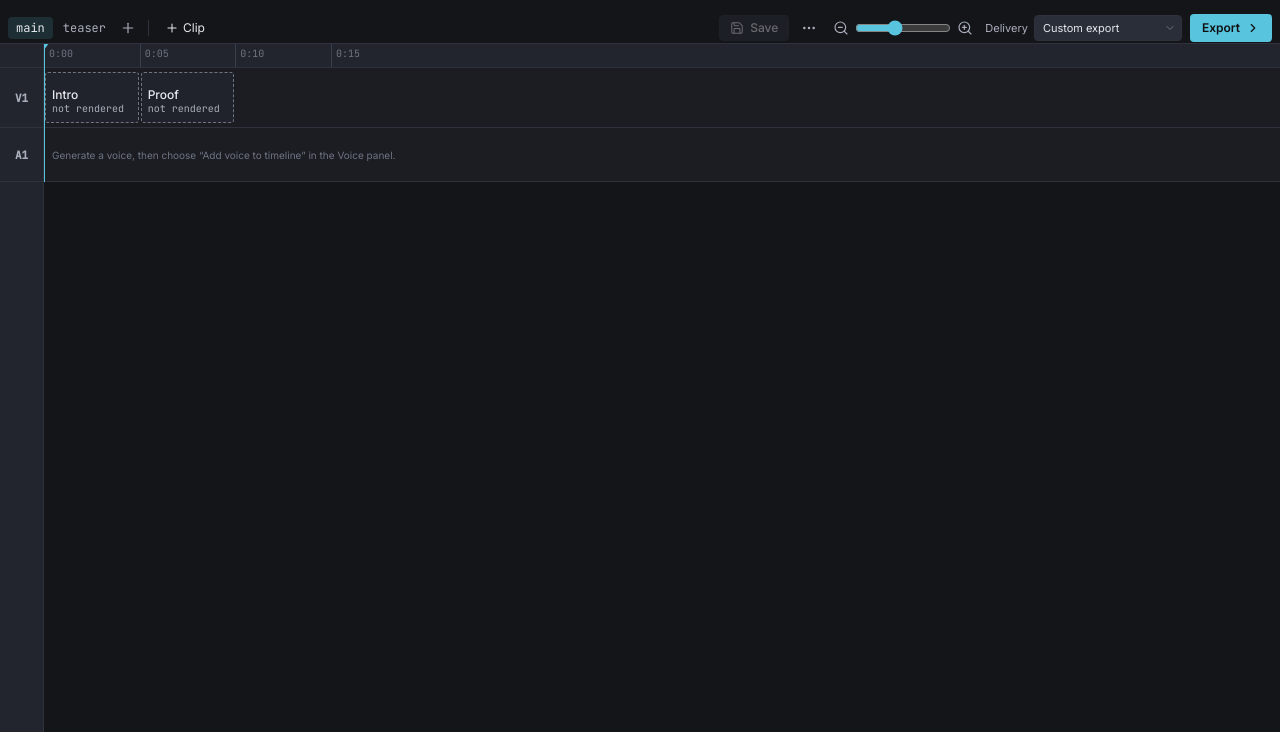
Test: TimelinePanel › adds and removes clips, then saves them in order with the etag
Click the button with aria-label "Clip 1: Intro". click: x=92, y=98
box: x1=45 y1=72 x2=139 y2=123
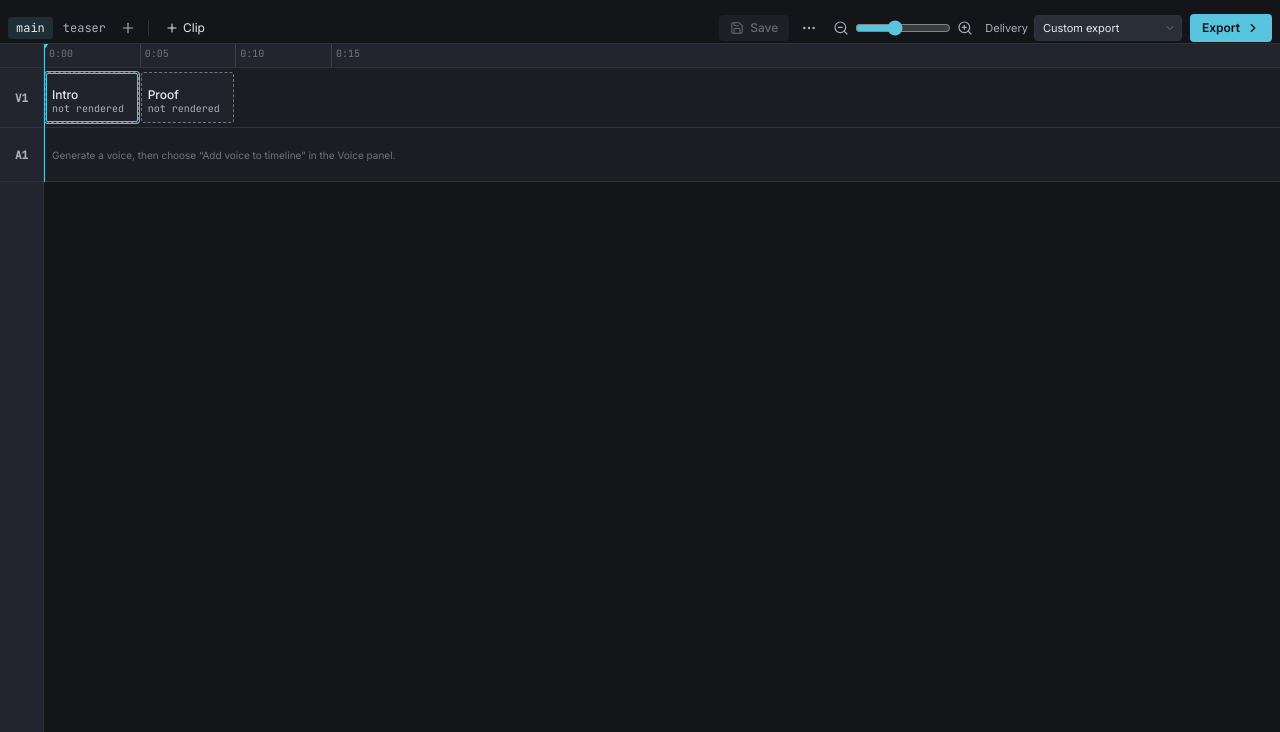
Press Delete in the button with aria-label "Clip 1: Intro", box x1=45 y1=72 x2=139 y2=123
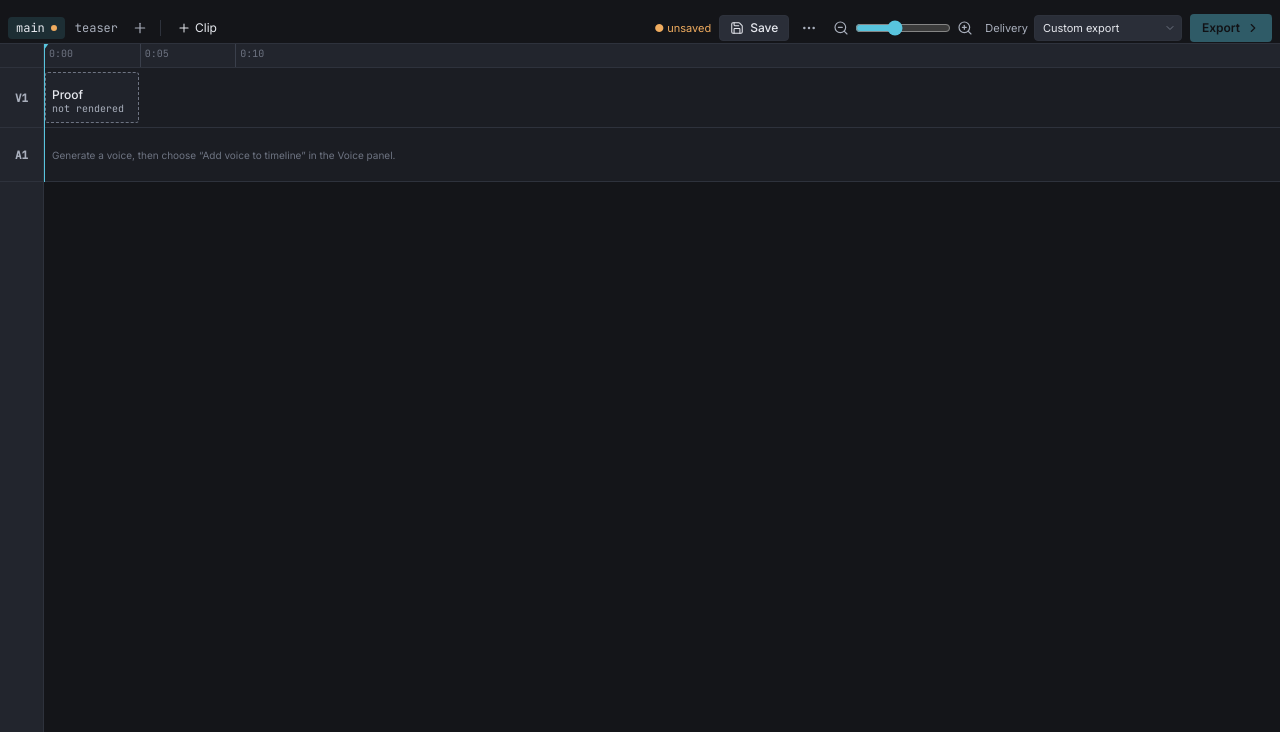
Click the button with aria-label "Add clip". click: x=197, y=28
box: x1=169 y1=14 x2=225 y2=40
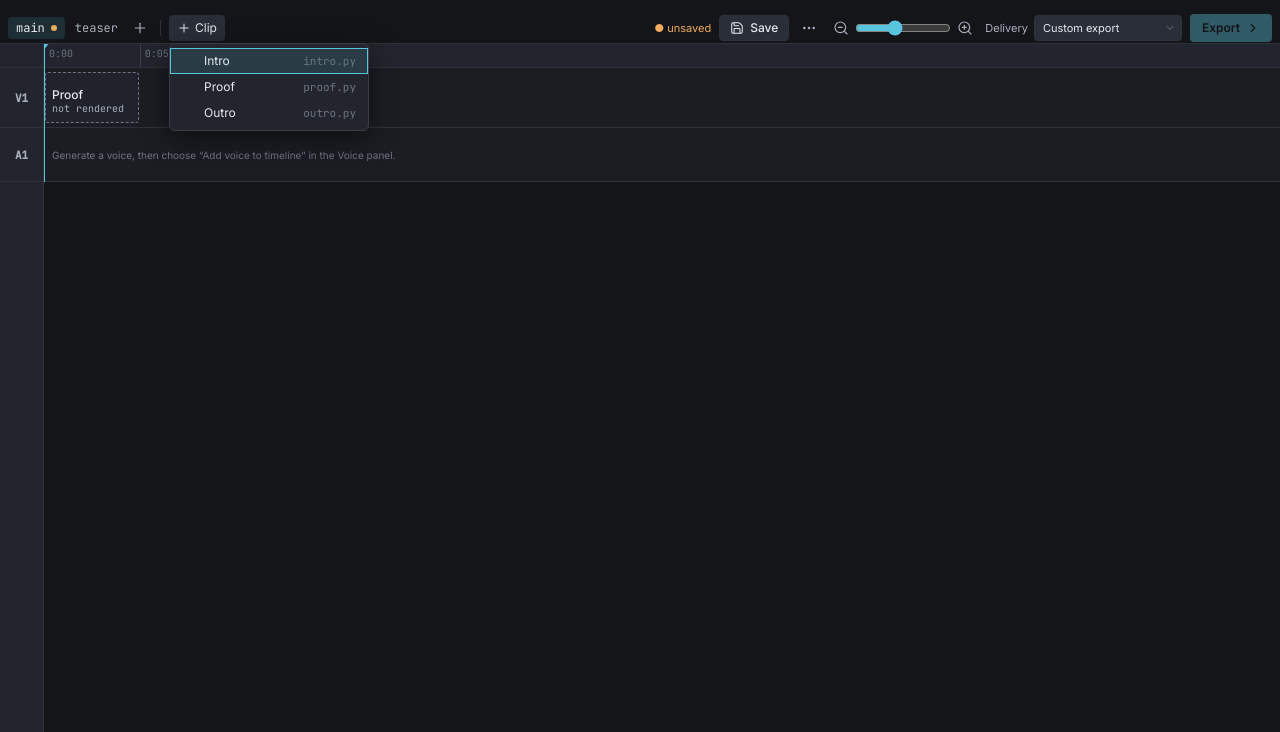
Click the menu item "Outro outro.py". click: x=269, y=112
box: x1=170 y1=100 x2=368 y2=126
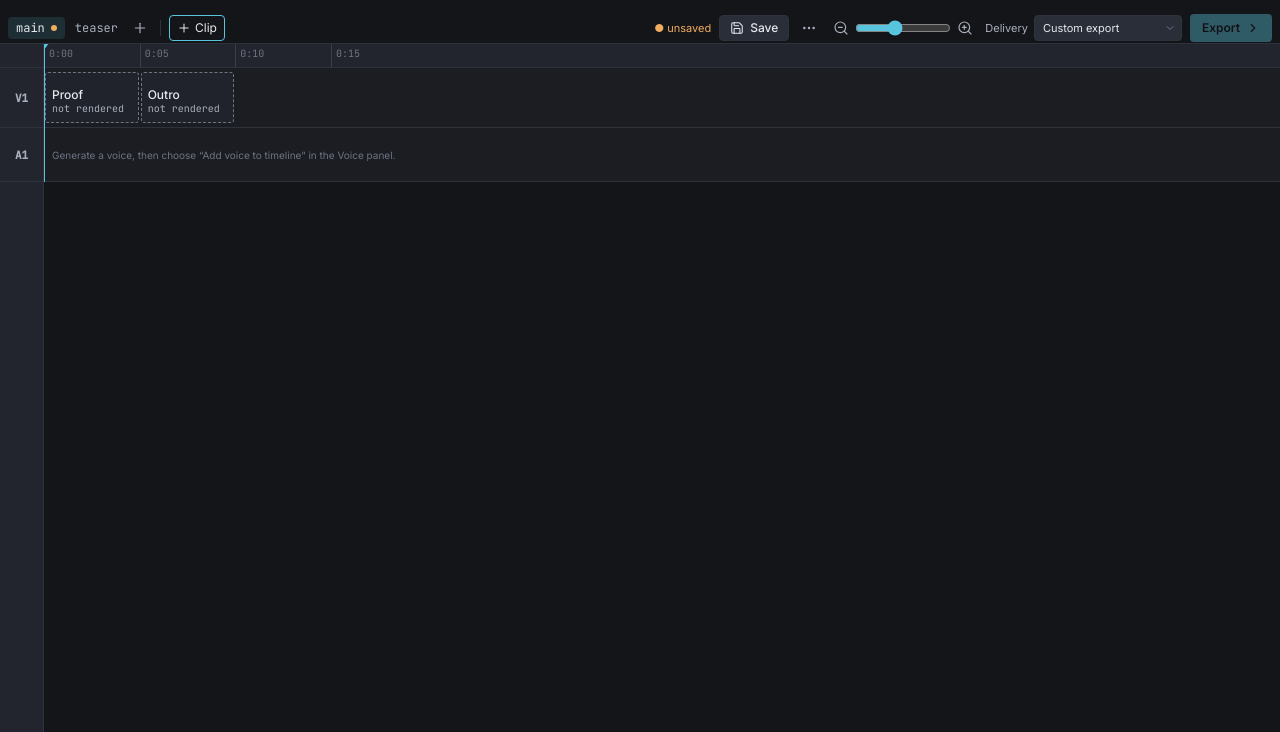
Expected: the text "● unsaved" is shown, x1=654 y1=20 x2=711 y2=34
Click the button "Save". click: x=754, y=28
box: x1=719 y1=14 x2=789 y2=40
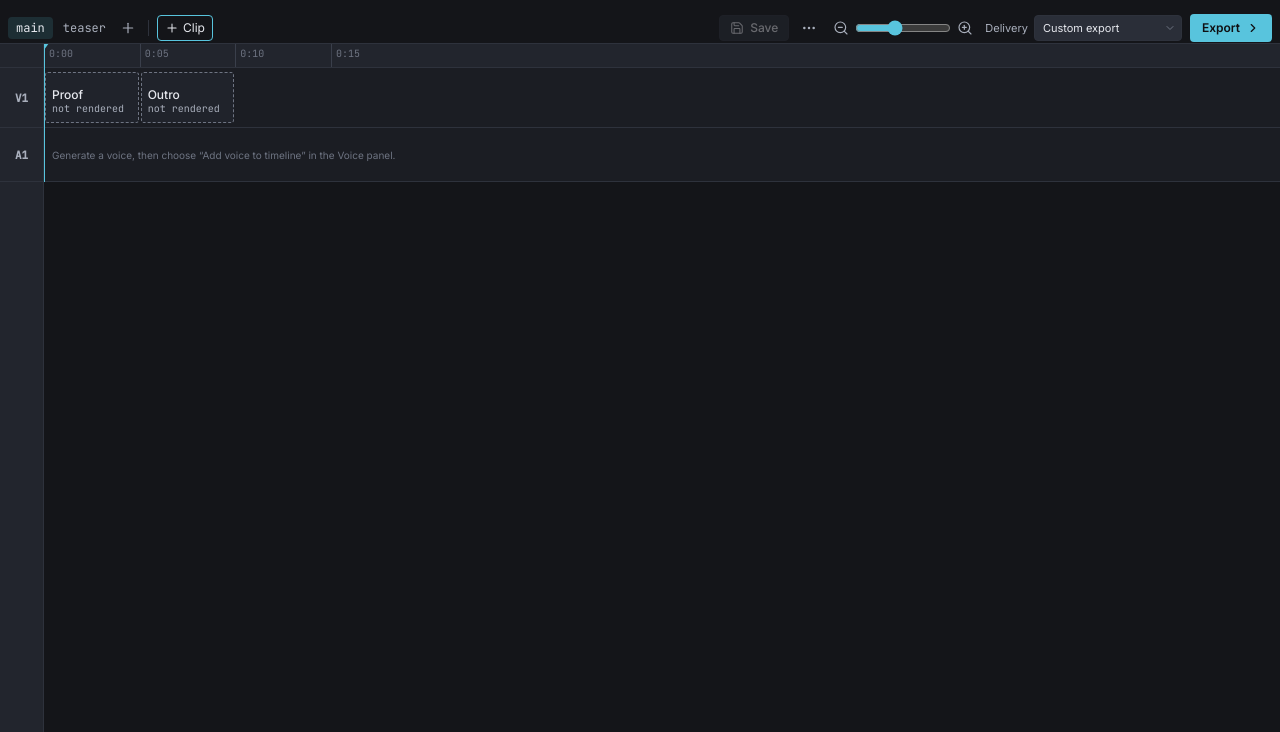
Expected: the text "● unsaved" is gone
